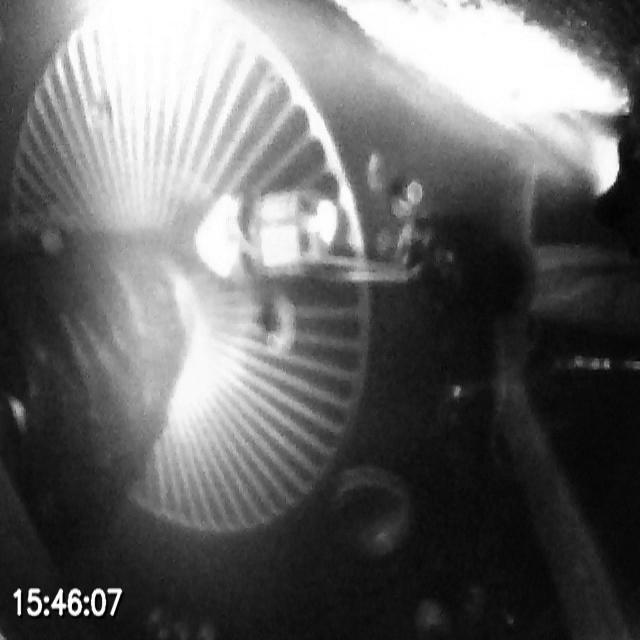head: (194, 189, 340, 281)
